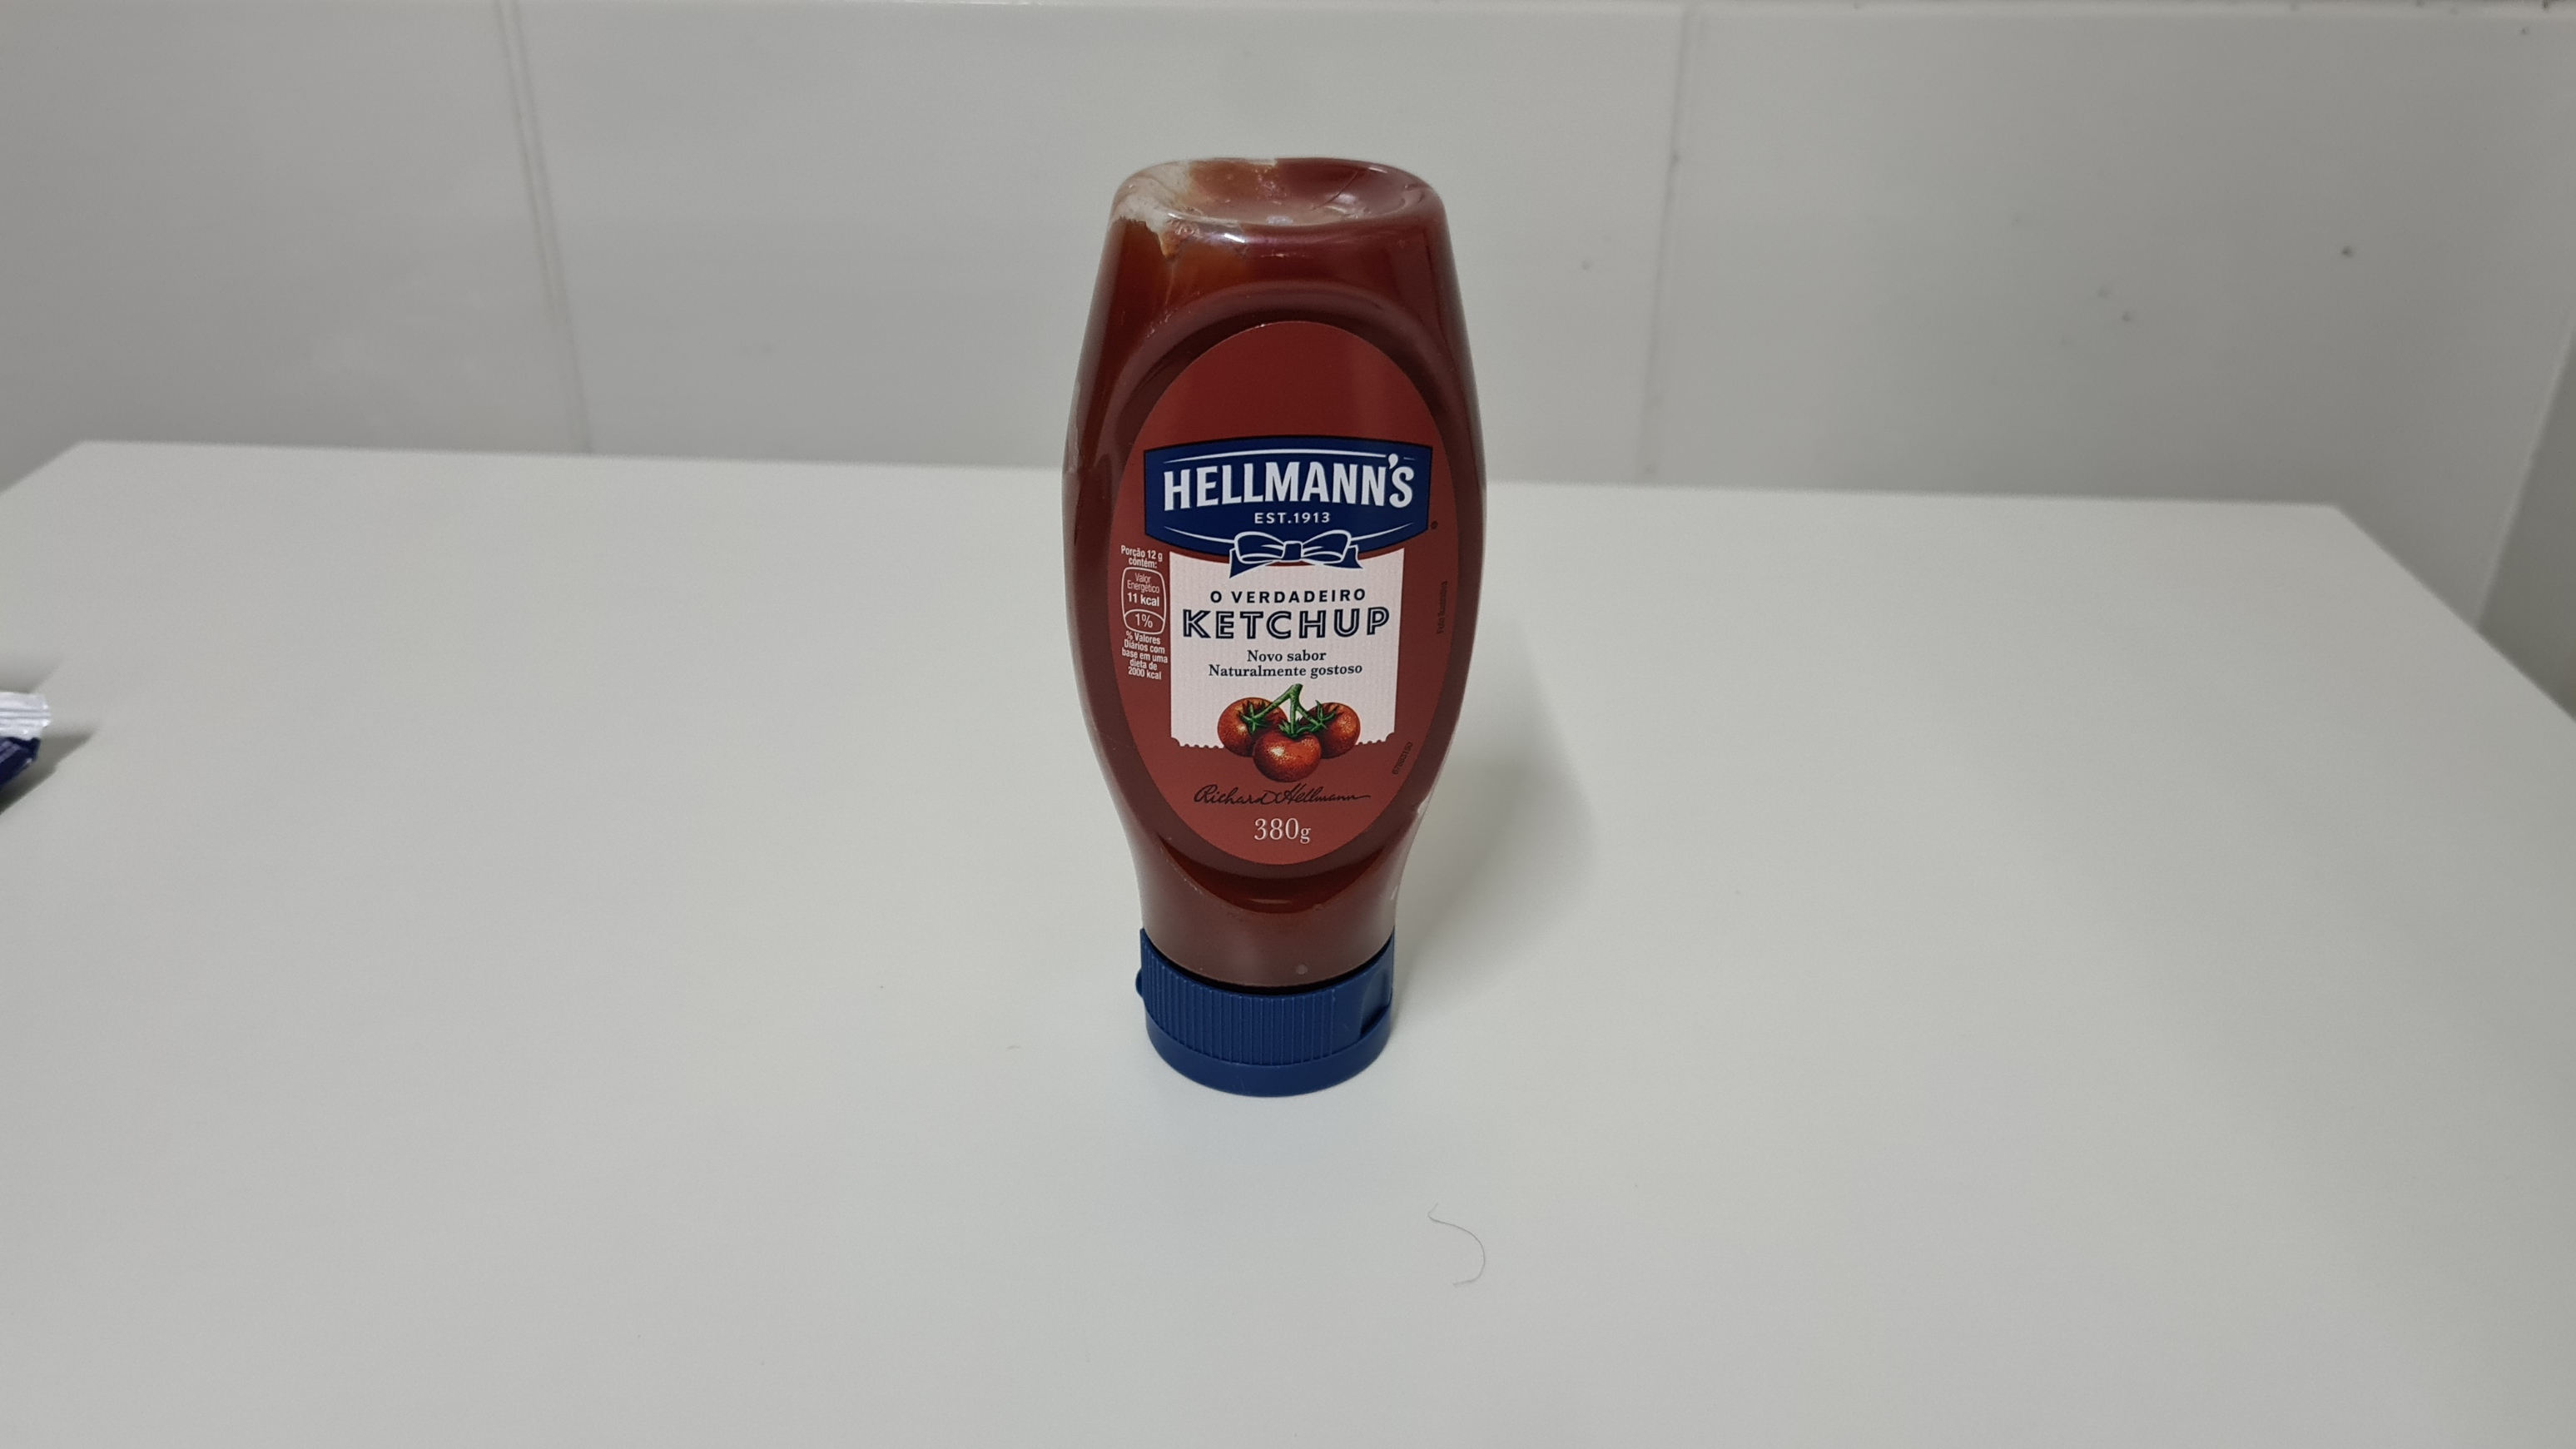Ketchup: (1045, 145, 1499, 1113)
